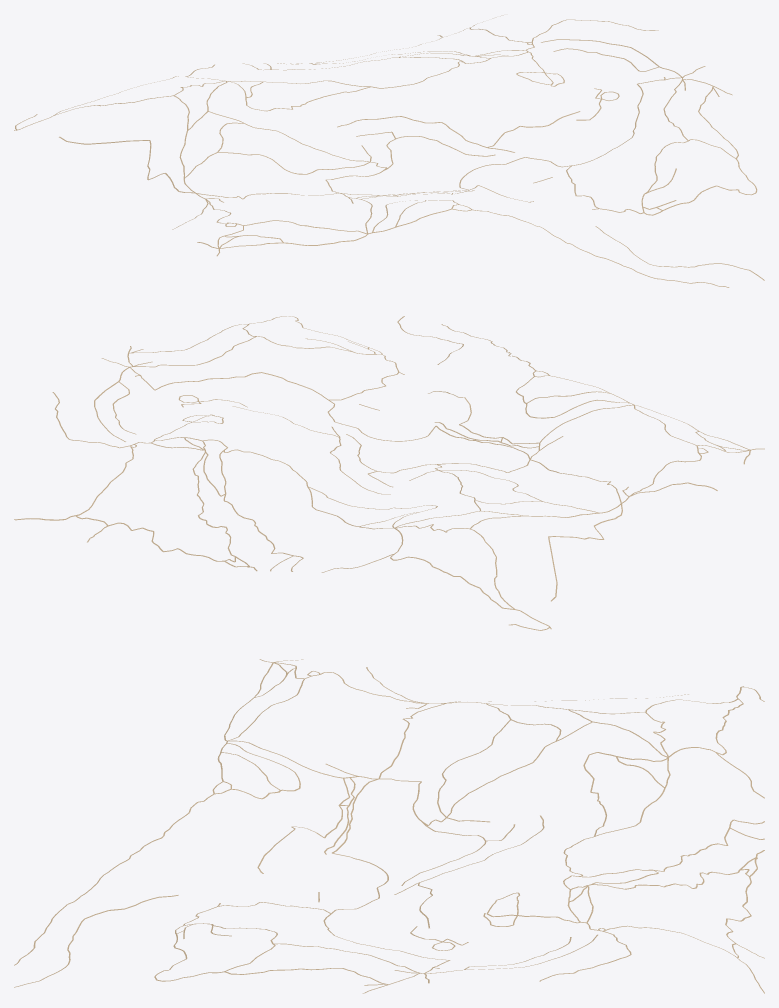
File: trails.glb
3 views of the same model, one above another, from view 1: azimuth 30°, elevation 25°; view 2: azimuth 150°, elevation 25°; view 3: azimuth 270°, elevation 25° (orthographic). The views are drawn at different scales.
Bounding box in the file's own units: 629 × 76.55 × 612.
1 material, 1 textured.
